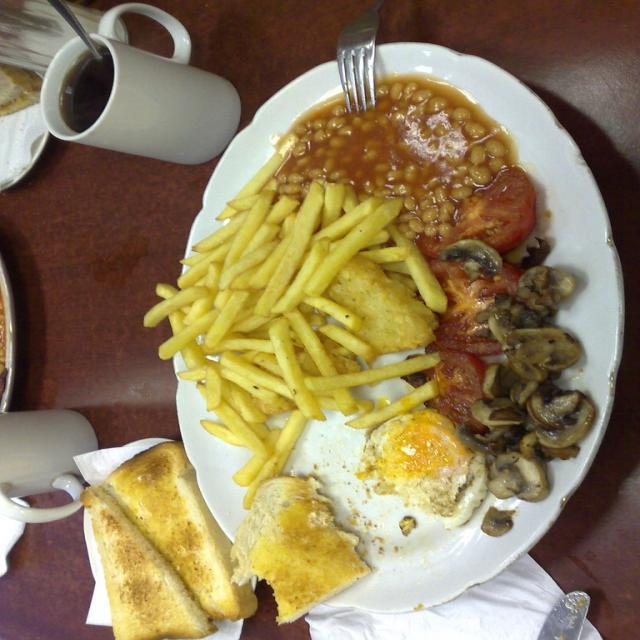Tea: (56, 49, 110, 131)
